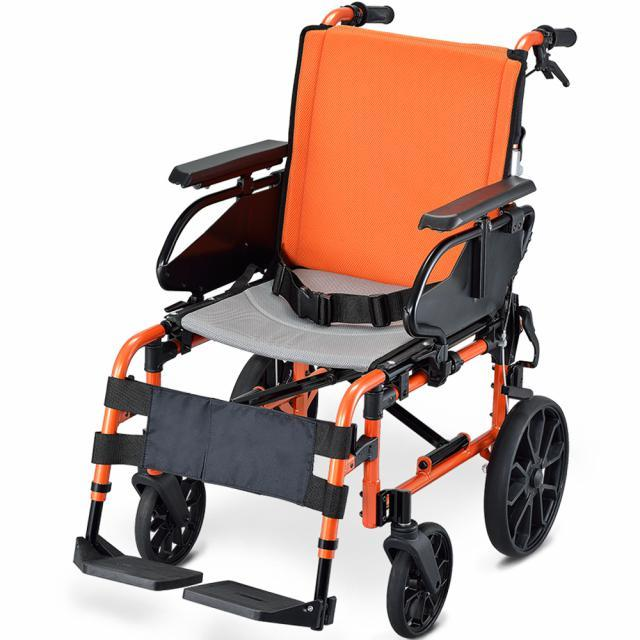wheelchair: (68, 5, 592, 640)
